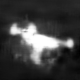plane: (7, 21, 74, 66)
